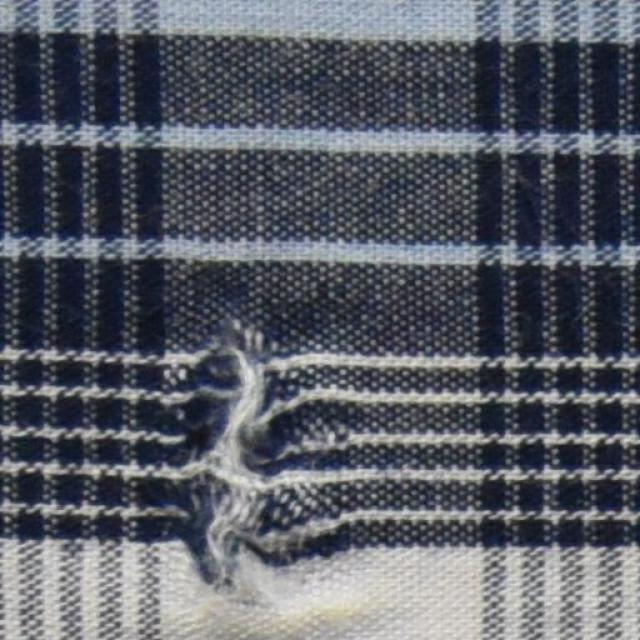Snag: (172, 326, 292, 587)
